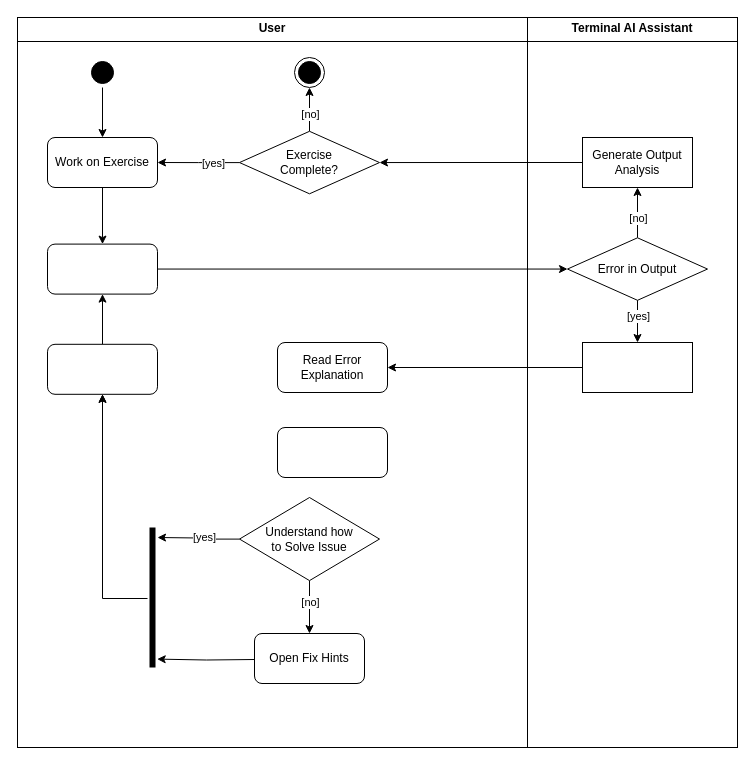
This 755x765 diagram has some shape labels left out. Each missing label, with the centre of its shape:
Apply Fix: point (102, 368)
Generate Error Explanation: point (637, 367)
Navigate to Error Location: point (332, 452)
Run Exercise Code: point (102, 268)
